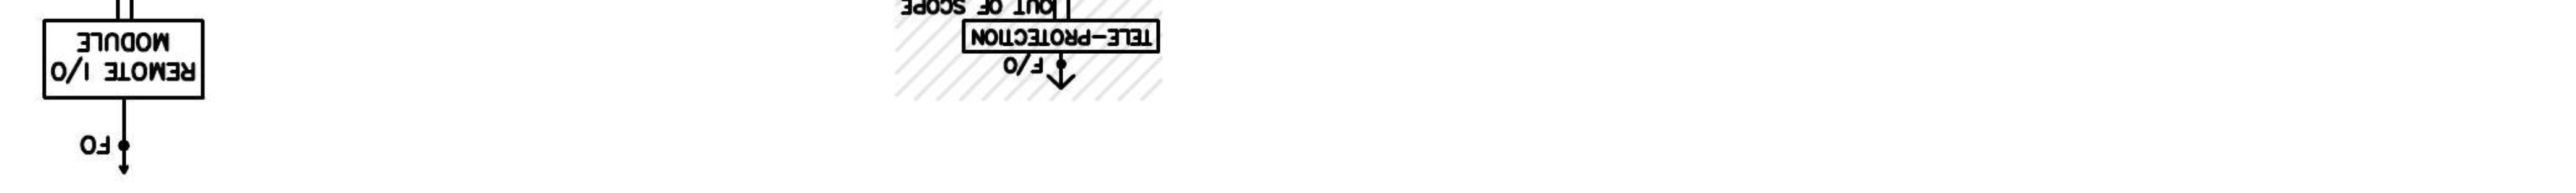remote_io_module: (43, 18, 205, 100)
tele_protection: (961, 18, 1161, 54)
